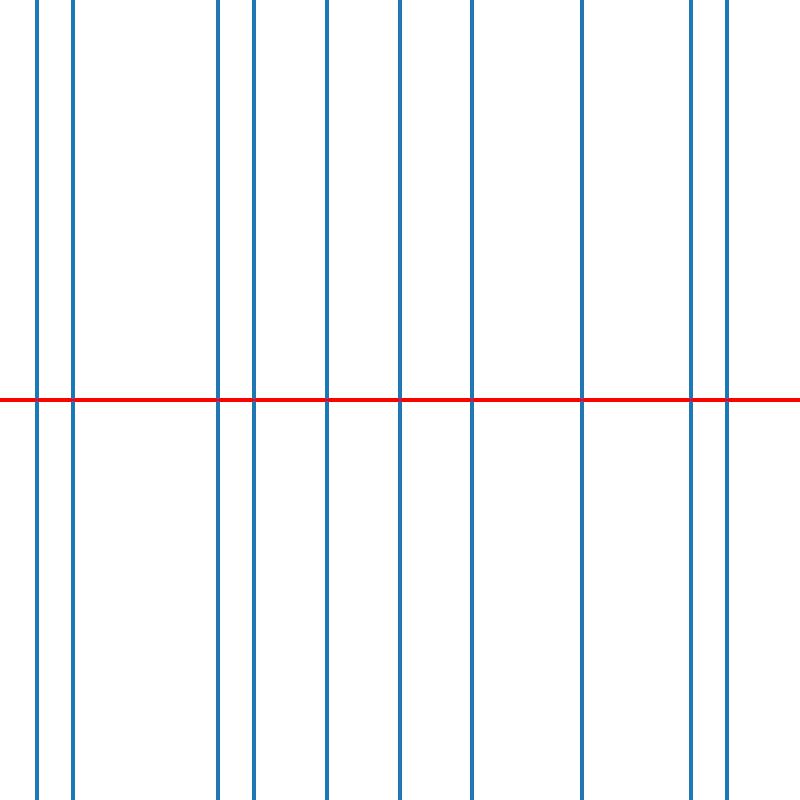root: (32, 396, 40, 404), (250, 396, 258, 404), (214, 396, 221, 404), (578, 396, 585, 404), (723, 396, 730, 404), (396, 396, 403, 404), (687, 396, 694, 404), (69, 396, 76, 404), (469, 396, 476, 404), (323, 396, 330, 404)
